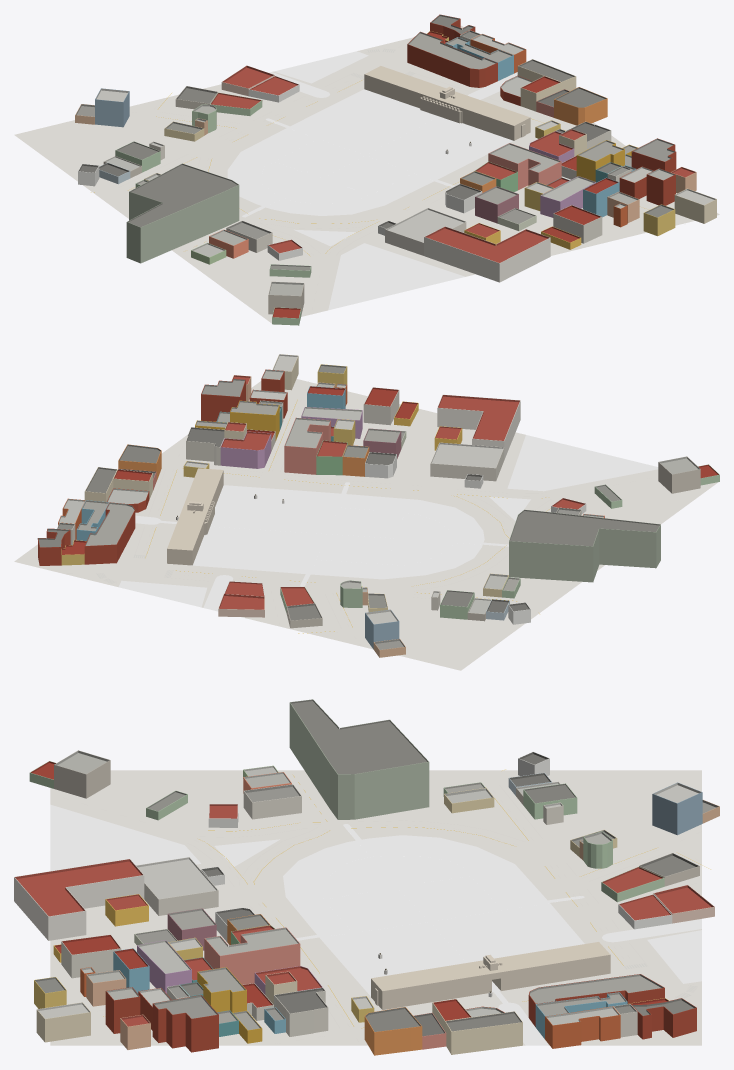
The picture shows the model from 3 angles, top to bottom: view 1: azimuth 30°, elevation 25°; view 2: azimuth 150°, elevation 25°; view 3: azimuth 270°, elevation 25°; orthographic projection. The views are drawn at different scales.
Visible parts, largest first — view 1: ground, walls, roofs, plaza, grass, stone, concrete, pavers, markings; view 2: ground, walls, roofs, plaza, grass, stone, concrete, markings, pavers; view 3: ground, walls, roofs, plaza, stone, grass, concrete, pavers, markings.
Part boxes in pixels (bbox=[...]): ground: bbox=[14, 25, 719, 323]; walls: bbox=[75, 19, 716, 325]; roofs: bbox=[75, 14, 716, 318]; plaza: bbox=[227, 51, 513, 215]; grass: bbox=[294, 158, 465, 310]; stone: bbox=[364, 66, 530, 154]; concrete: bbox=[242, 115, 454, 217]; pavers: bbox=[269, 72, 517, 99]; markings: bbox=[91, 47, 644, 309]; ground: bbox=[14, 379, 718, 670]; walls: bbox=[38, 356, 719, 657]; roofs: bbox=[37, 354, 719, 650]; plaza: bbox=[118, 485, 484, 607]; grass: bbox=[357, 435, 658, 549]; stone: bbox=[167, 468, 284, 565]; concrete: bbox=[160, 482, 508, 586]; markings: bbox=[67, 381, 647, 644]; pavers: bbox=[135, 515, 233, 611]; ground: bbox=[50, 770, 701, 1045]; walls: bbox=[14, 703, 719, 1055]; roofs: bbox=[14, 699, 719, 1036]; plaza: bbox=[283, 835, 701, 996]; stone: bbox=[371, 942, 610, 1009]; grass: bbox=[50, 804, 450, 907]; concrete: bbox=[296, 824, 584, 1003]; pavers: bbox=[498, 919, 701, 1045]; markings: bbox=[63, 769, 710, 1043].
Size of what is drawn, in the model's own units: 282 by 19.18 by 271.
